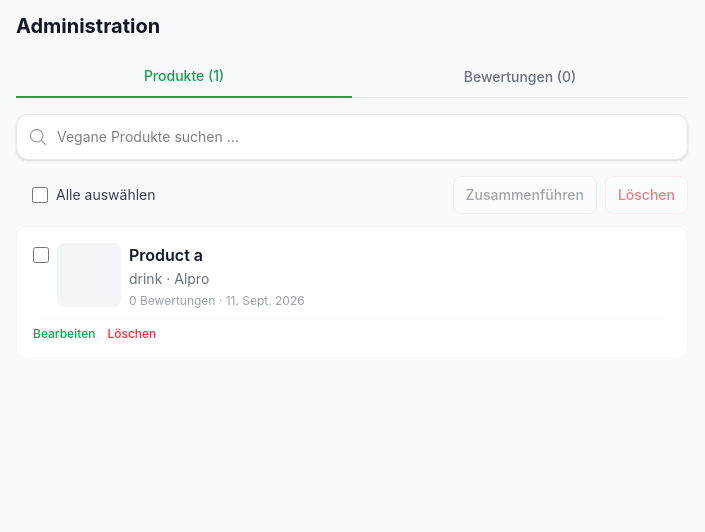
Scenario: AdminView › when searching for products › shows the matching products and keeps selected ones that are hidden
Expected: the checkbox labelled "Alle auswählen" is shown, x1=32 y1=187 x2=48 y2=203
Click the checkbox named "Product a auswählen" at (41, 255), box x1=33 y1=247 x2=49 y2=263
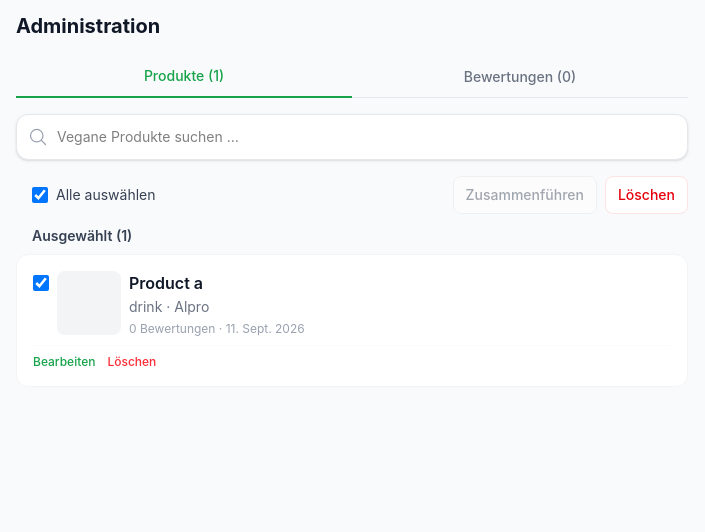
Type "milk" into the search field with placeholder "Vegane Produkte suchen …" at (352, 137), box x1=16 y1=114 x2=688 y2=160
Wait 300 ms
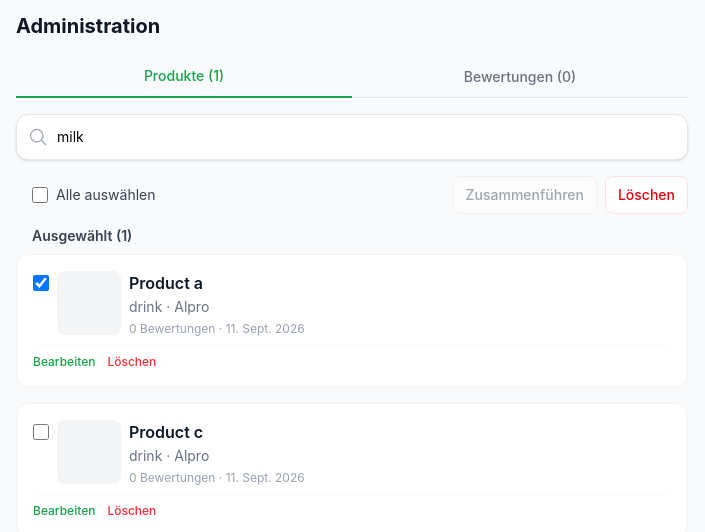
Expected: the checkbox named "Product a auswählen" is shown, x1=33 y1=275 x2=49 y2=291
Result: the text "Ausgewählt (1)" is shown at x1=32 y1=227 x2=132 y2=244
Result: the checkbox named "Product c auswählen" is shown at x1=33 y1=424 x2=49 y2=440
